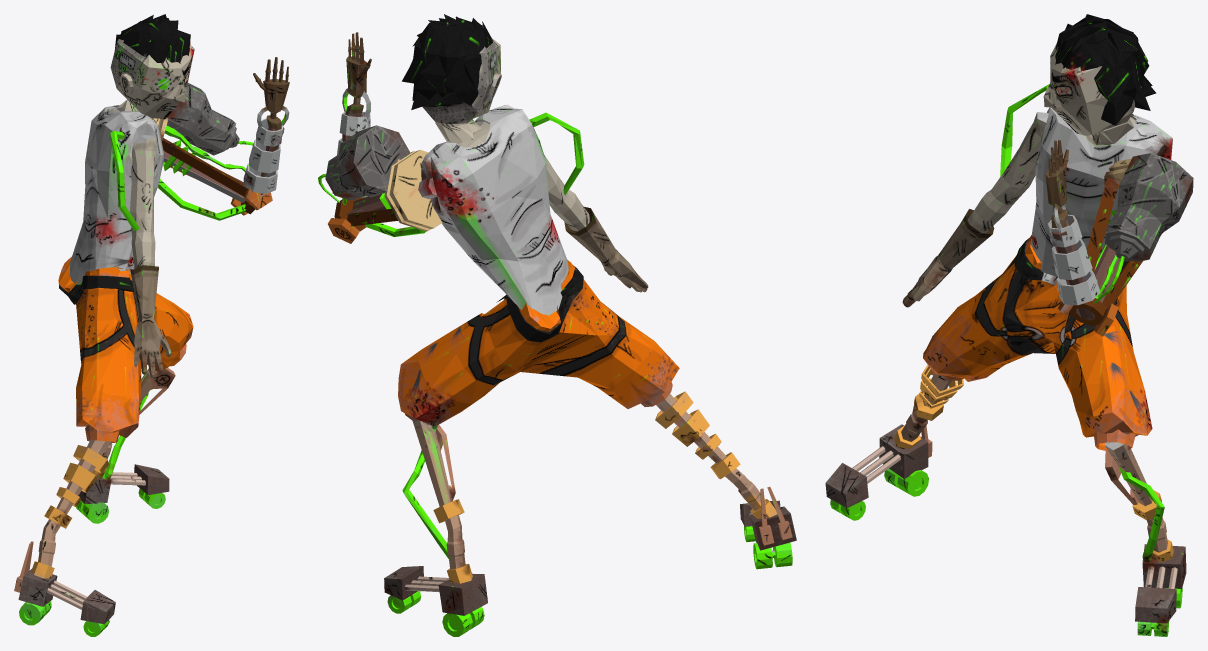
Rendered from CyborgFINALAnimation_000025.obj.
3 views of the same model, side by side, from view 1: azimuth 30°, elevation 25°; view 2: azimuth 150°, elevation 25°; view 3: azimuth 270°, elevation 25° (orthographic). The views are drawn at different scales.
Visible parts, largest first — view 1: CyborgMesh_Cube.002; view 2: CyborgMesh_Cube.002; view 3: CyborgMesh_Cube.002.
Boxes of the visible parts, box(x1,y1,x2,y2) form: CyborgMesh_Cube.002: box(14, 14, 289, 636); CyborgMesh_Cube.002: box(318, 14, 796, 636); CyborgMesh_Cube.002: box(825, 14, 1193, 636).
Size of the model in its own units: 5.96 by 8.67 by 4.77.
